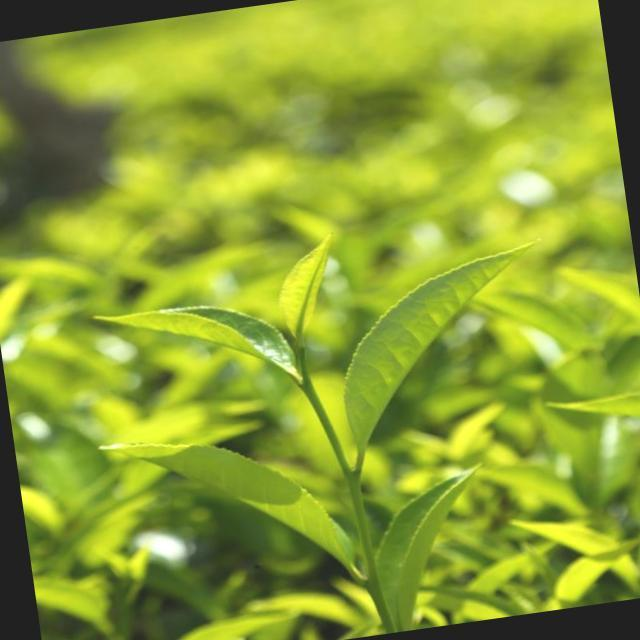Stem: (301, 379, 325, 417)
